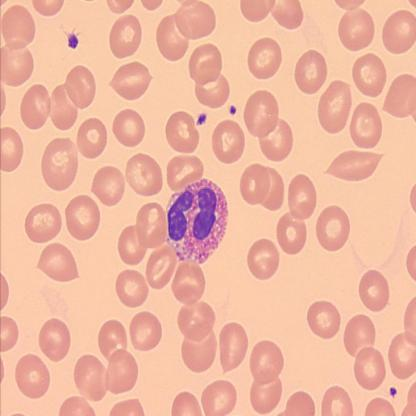Eosinophil: (162, 178, 230, 264)
